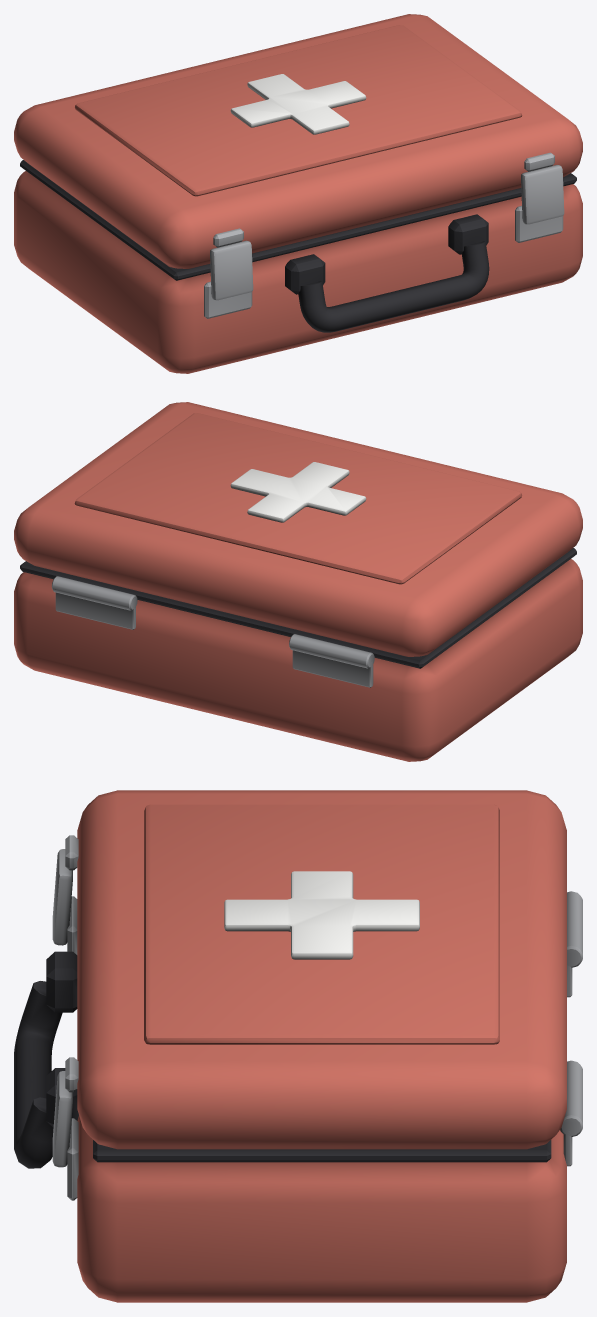
File: med_kit.glb
3 renders of one model, top to bottom at view 1: azimuth 30°, elevation 25°; view 2: azimuth 150°, elevation 25°; view 3: azimuth 270°, elevation 25°, orthographic. The views are drawn at different scales.
Visible parts, largest first — view 1: PART; view 2: PART; view 3: PART.
Part boxes in pixels (left/top/right/bottom): PART: left=14, top=14, right=582, bottom=373; PART: left=14, top=402, right=582, bottom=761; PART: left=14, top=790, right=582, bottom=1302.
Bounding box in the file's own units: 0.32 × 0.13 × 0.2557.
